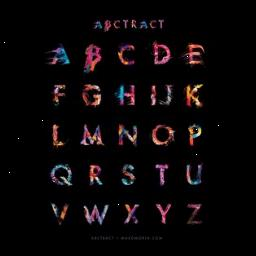c: (118, 40, 142, 72)
d: (156, 43, 176, 69)
e: (189, 37, 209, 67)
f: (50, 84, 66, 108)
g: (82, 81, 106, 113)
h: (118, 82, 140, 106)
i: (148, 82, 164, 110)
j: (160, 82, 178, 110)
k: (182, 78, 212, 110)
l: (52, 122, 68, 152)
m: (78, 124, 110, 150)
n: (114, 123, 138, 151)
o: (152, 124, 180, 152)
p: (187, 119, 211, 149)
q: (50, 162, 78, 190)
r: (86, 162, 108, 186)
s: (118, 166, 142, 188)
t: (152, 160, 172, 190)
u: (182, 164, 210, 188)
v: (48, 202, 74, 226)
w: (81, 198, 113, 232)
x: (124, 204, 146, 228)
y: (154, 200, 176, 230)
z: (180, 200, 210, 230)
